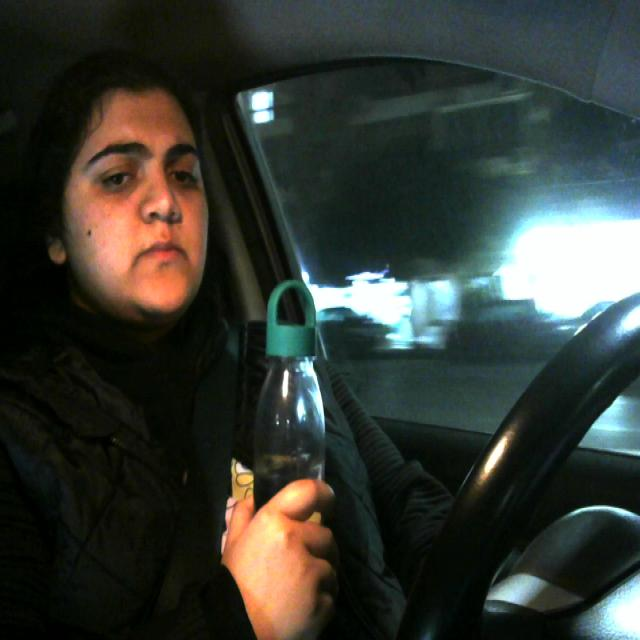drinking: (255, 276, 329, 615)
